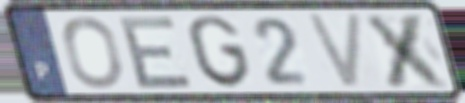2: (253, 15, 313, 88)
E: (117, 13, 197, 91)
G: (184, 13, 255, 91)
O: (59, 15, 126, 91)
V: (302, 10, 367, 92)
X: (360, 11, 456, 90)
